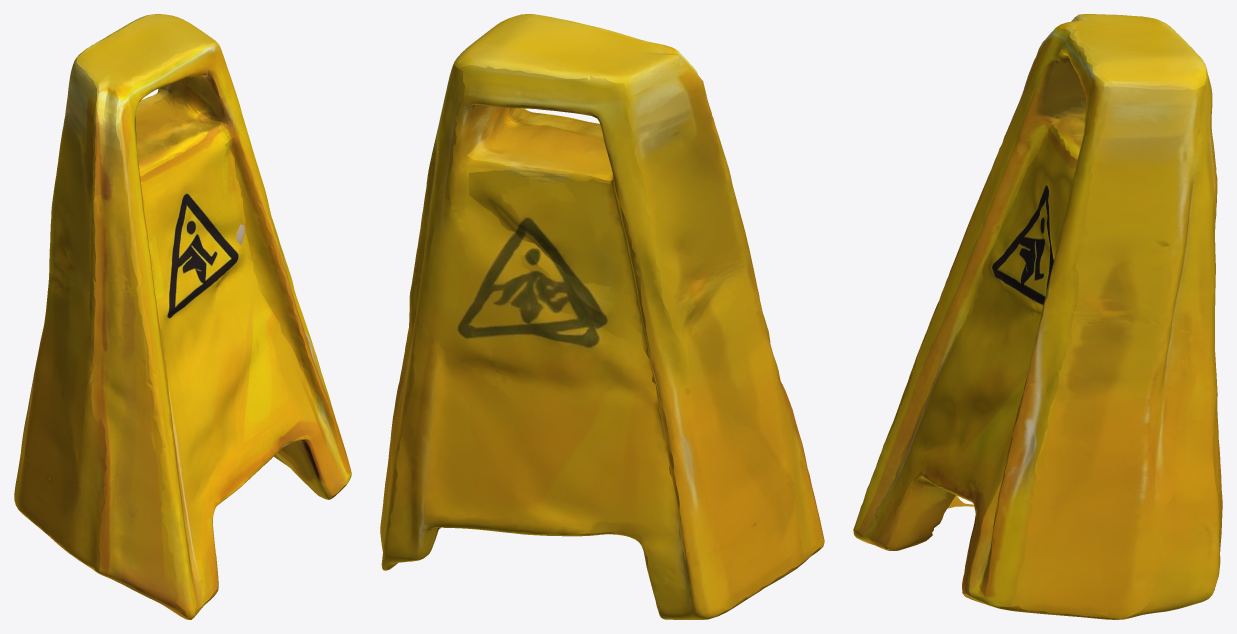
The model's file is wet_sign_chunks.glb.
The picture shows the model from 3 angles, left to right: view 1: azimuth 30°, elevation 25°; view 2: azimuth 150°, elevation 25°; view 3: azimuth 270°, elevation 25°; orthographic projection. The views are drawn at different scales.
Parts seen in each view (by area): view 1: chunk4_shell, chunk2_shell, chunk5_shell, chunk3_shell, chunk1_shell, chunk0_shell; view 2: chunk5_shell, chunk1_shell, chunk4_shell, chunk3_shell, chunk2_shell; view 3: chunk2_shell, chunk3_shell, chunk4_shell, chunk1_shell, chunk0_shell, chunk5_shell.
Part boxes in pixels (box(x1,y1,x2,y2)): chunk4_shell: box(77, 39, 230, 485); chunk2_shell: box(79, 227, 319, 619); chunk5_shell: box(22, 14, 230, 484); chunk3_shell: box(218, 72, 276, 317); chunk1_shell: box(14, 442, 299, 576); chunk0_shell: box(289, 271, 351, 499); chunk5_shell: box(443, 18, 789, 551); chunk1_shell: box(380, 316, 824, 619); chunk4_shell: box(508, 14, 802, 481); chunk3_shell: box(414, 96, 500, 389); chunk2_shell: box(403, 268, 824, 541); chunk2_shell: box(853, 313, 1195, 550); chunk3_shell: box(1020, 117, 1216, 344); chunk4_shell: box(915, 14, 1119, 360); chunk1_shell: box(947, 336, 1222, 619); chunk0_shell: box(962, 369, 1107, 618); chunk5_shell: box(1029, 15, 1217, 320).
Bounding box in the file's own units: 0.4078 × 0.65 × 0.4.
Materials: 1 (1 with a texture image).
